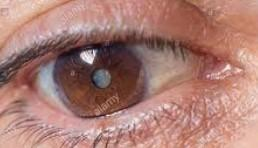eye: (55, 43, 150, 119)
